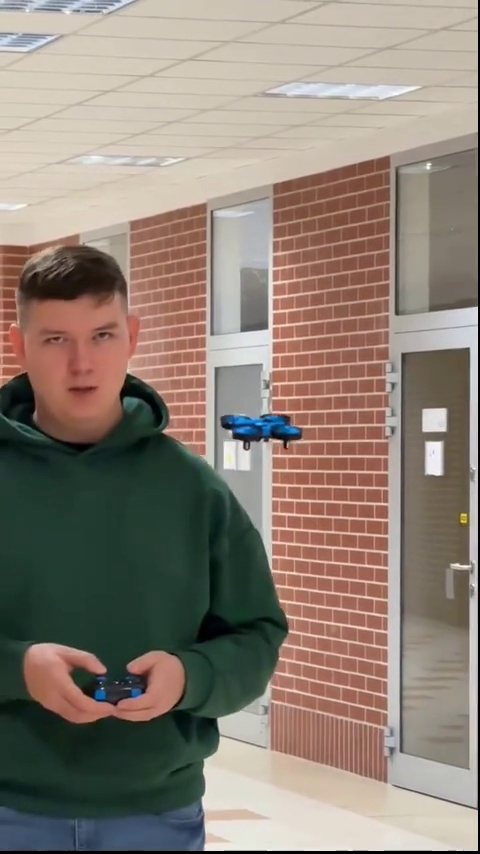drone: (219, 411, 300, 447)
no vest: (0, 246, 293, 833)
